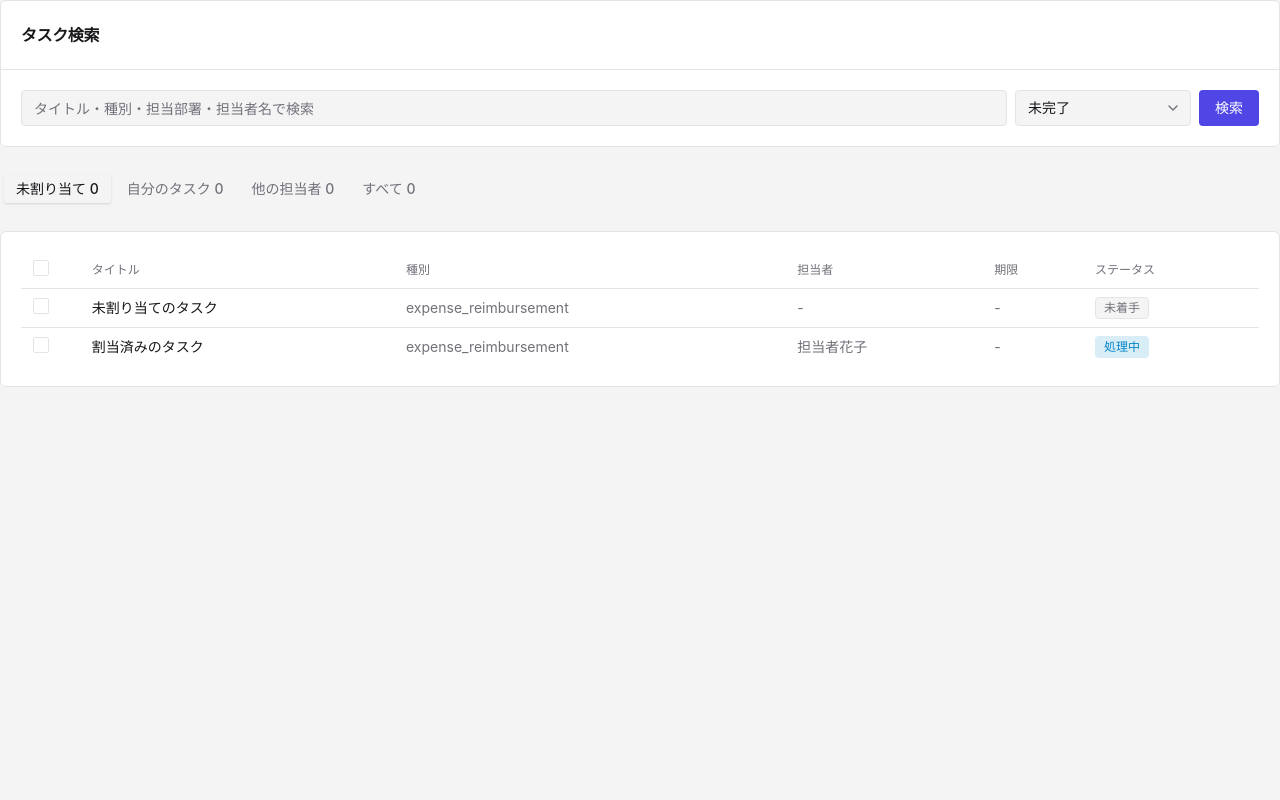
BackOfficeTaskListPage › changes the assignee of a mixed selection from the dialog, notifies and clears the selection
Click the checkbox named "未割り当てのタスクを選択" at (41, 306), box [33,298,49,314]
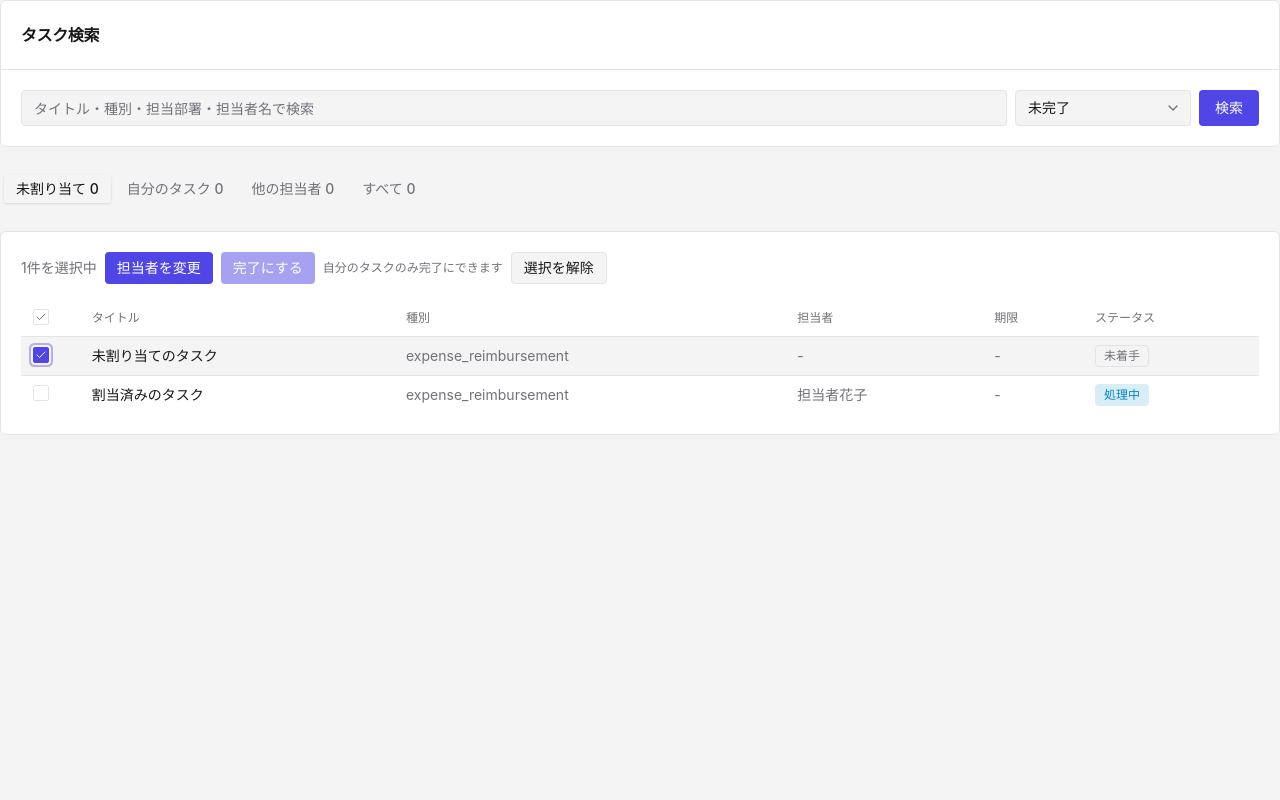
Click the checkbox named "割当済みのタスクを選択" at (41, 392), box [33,384,49,400]
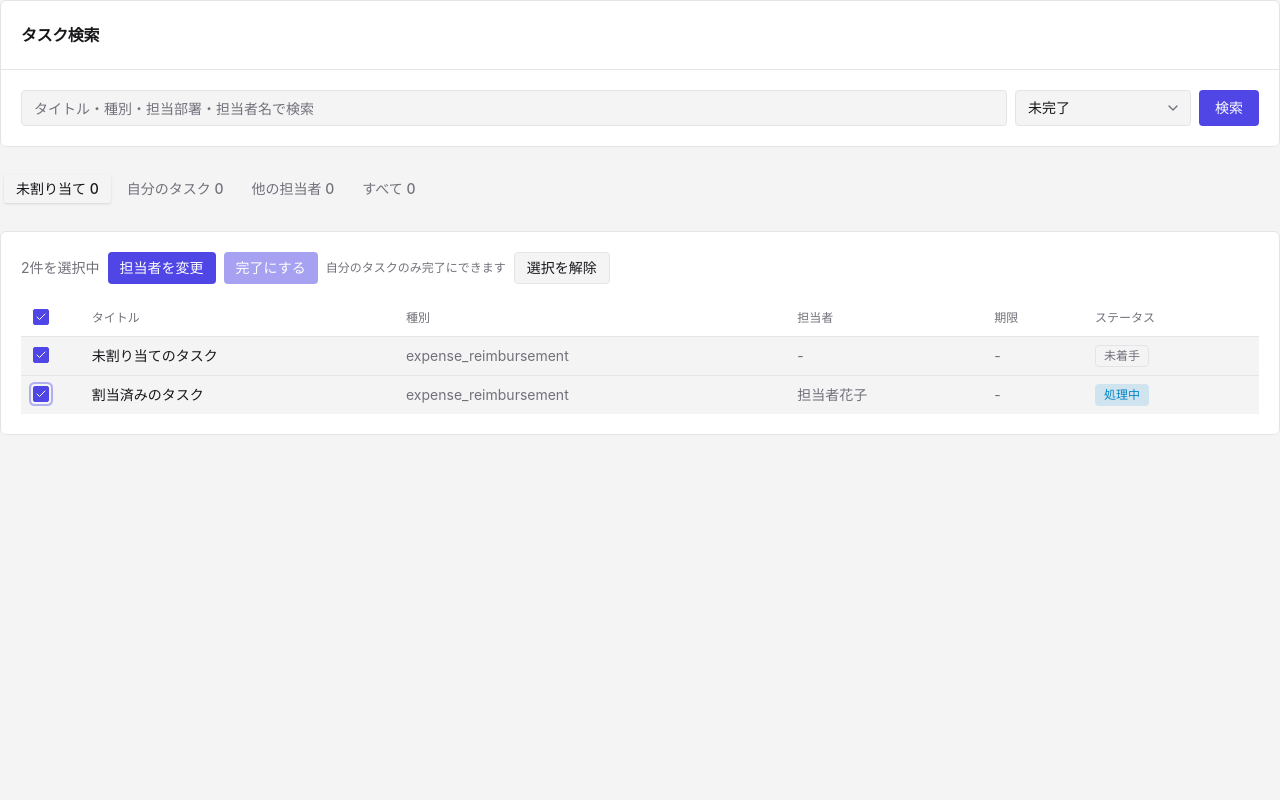
Expected: the text "2件を選択中" is shown, [21,258,100,278]
Click the button "担当者を変更" at (162, 268), box [108,252,216,284]
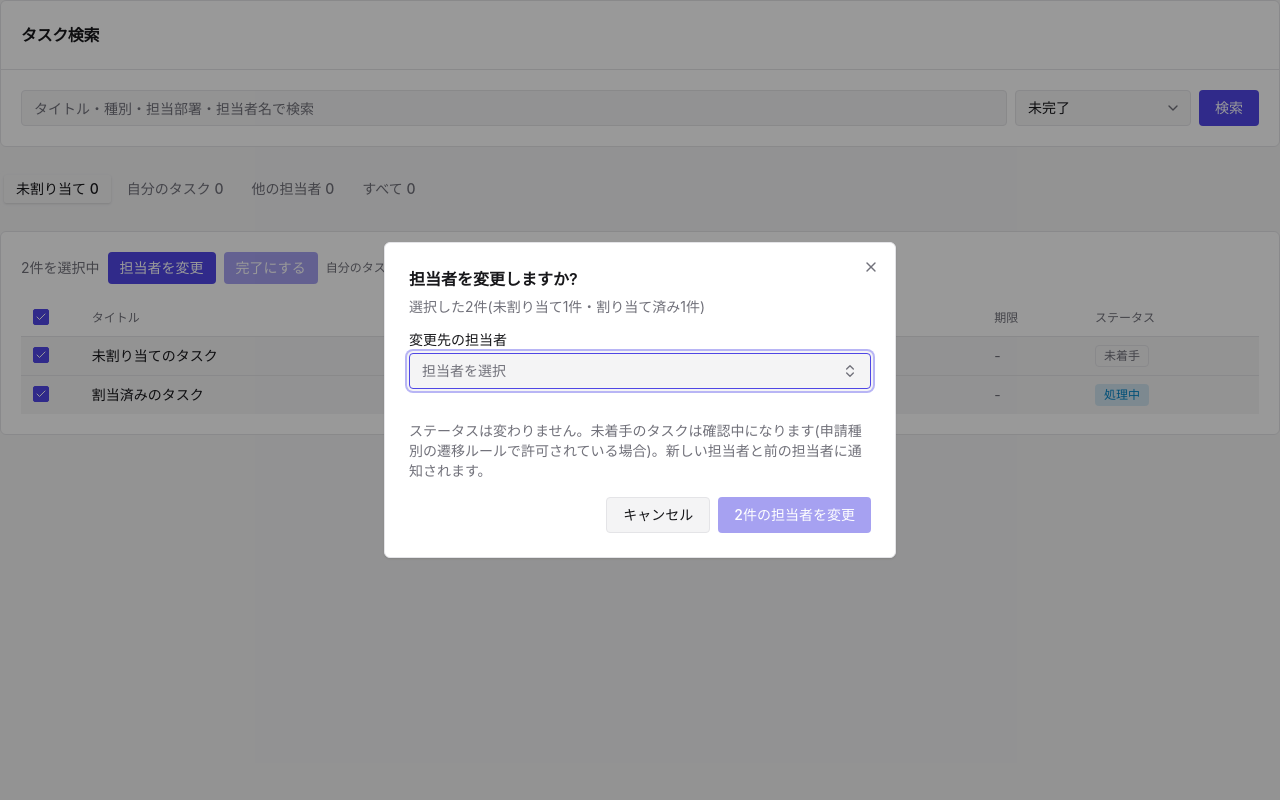
Expected: the heading "担当者を変更しますか?" is shown, [409,269,578,289]
Expected: the text "選択した2件(未割り当て1件・割り当て済み1件)" is shown, [409,298,705,315]
Expected: the text "ステータスは変わりません。未着手のタスクは確認中になります(申請種別の遷移ルールで許可されている場合)。新しい担当者と前の担当者に通知されます。" is shown, [409,421,871,481]
Click the dropdown with id "bulk-assignee" at (464, 370), box [409,353,871,389]
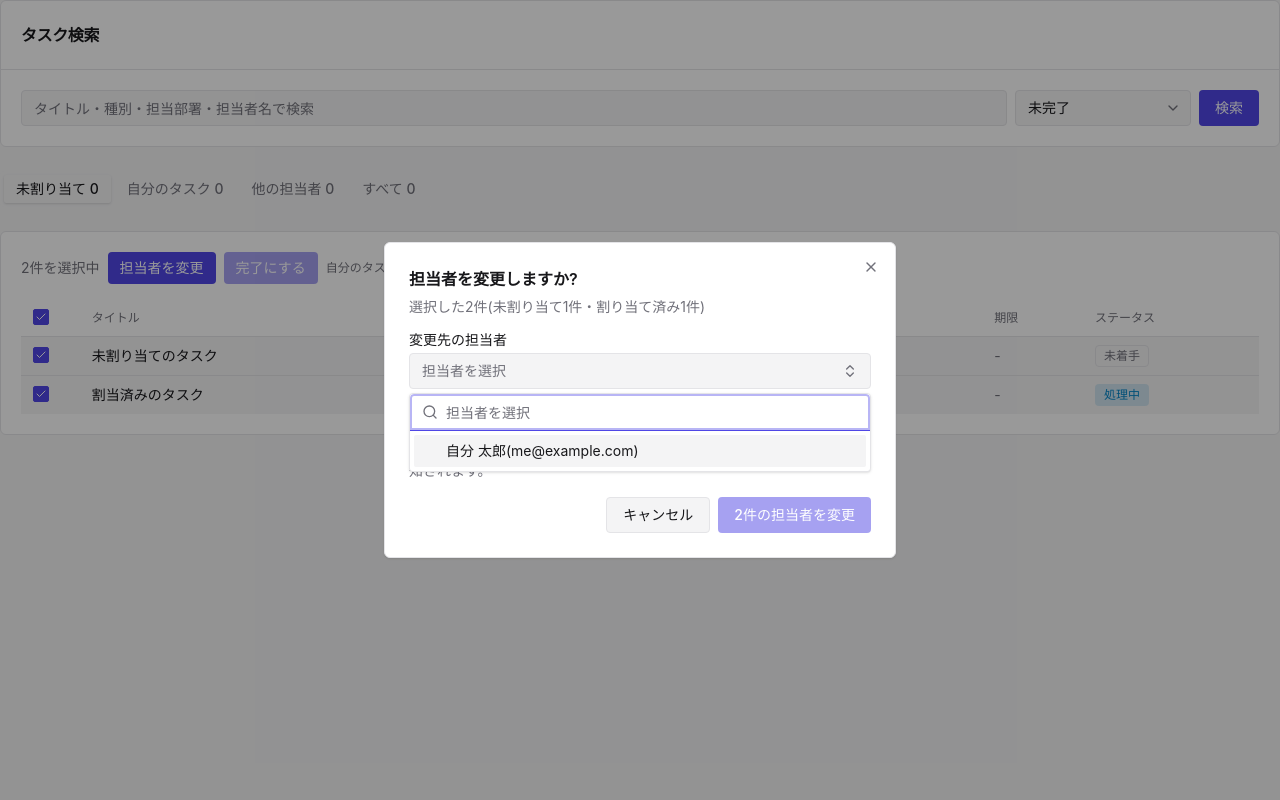
Type "自分" into the 2nd dropdown with placeholder "担当者を選択" at (652, 412), box [446,394,858,430]
Click the option "自分 太郎(me@example.com)" at (640, 451), box [414,435,866,467]
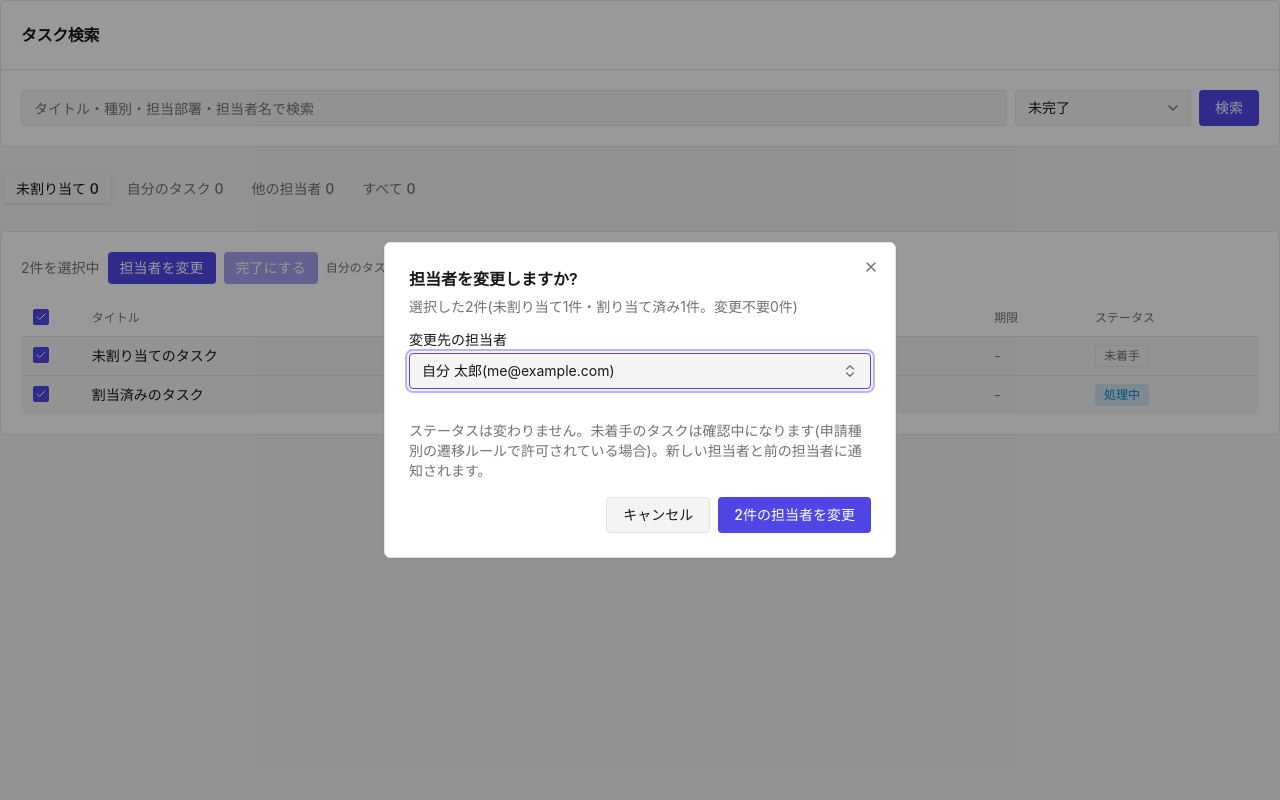
Expected: the text "選択した2件(未割り当て1件・割り当て済み1件。変更不要0件)" is shown, [409,298,798,315]
Click the button "2件の担当者を変更" at (795, 515), box [718,497,871,533]
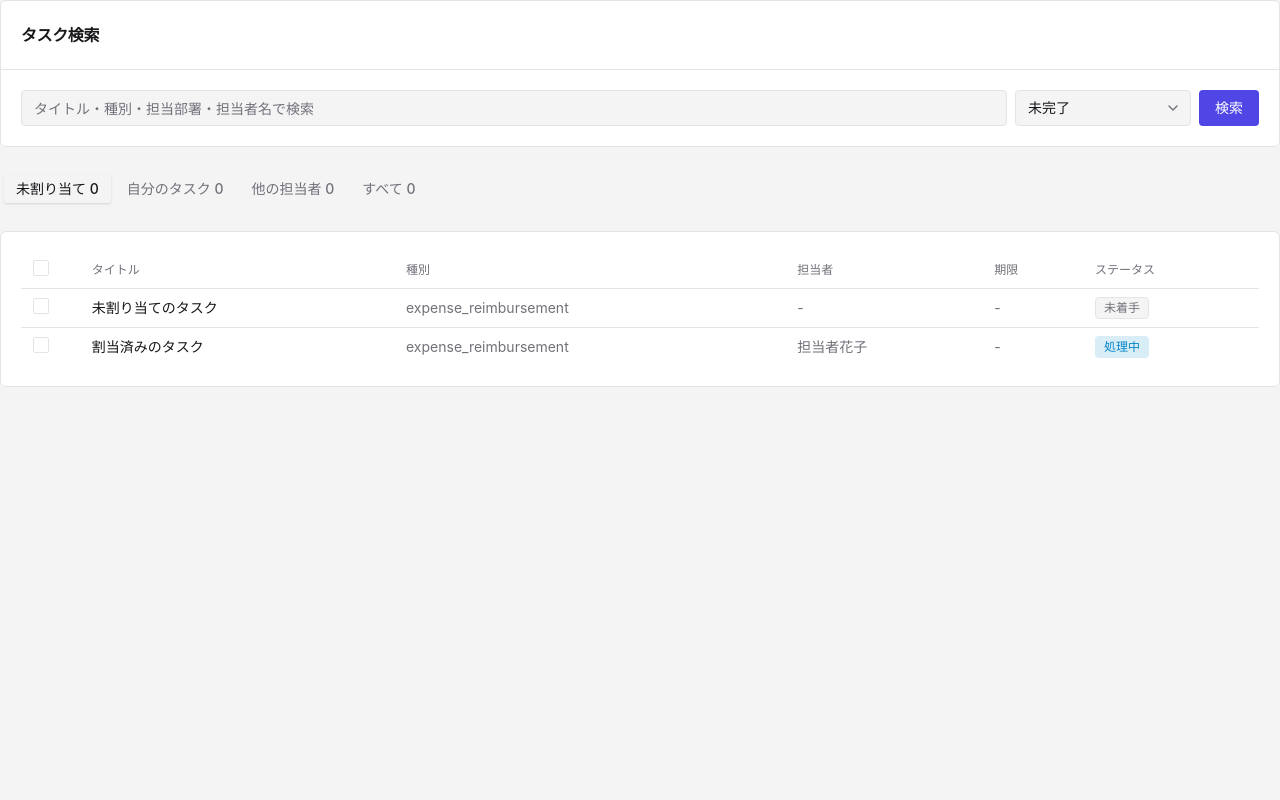
Expected: the dialog is gone
Expected: the text "2件を選択中" is gone
